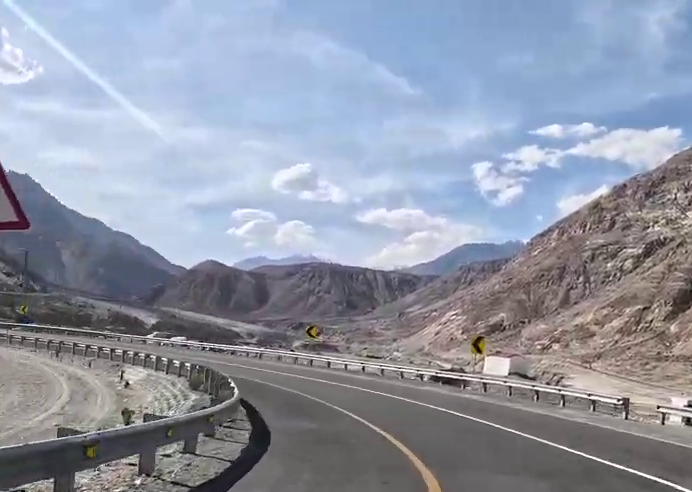right: (193, 337, 615, 492)
